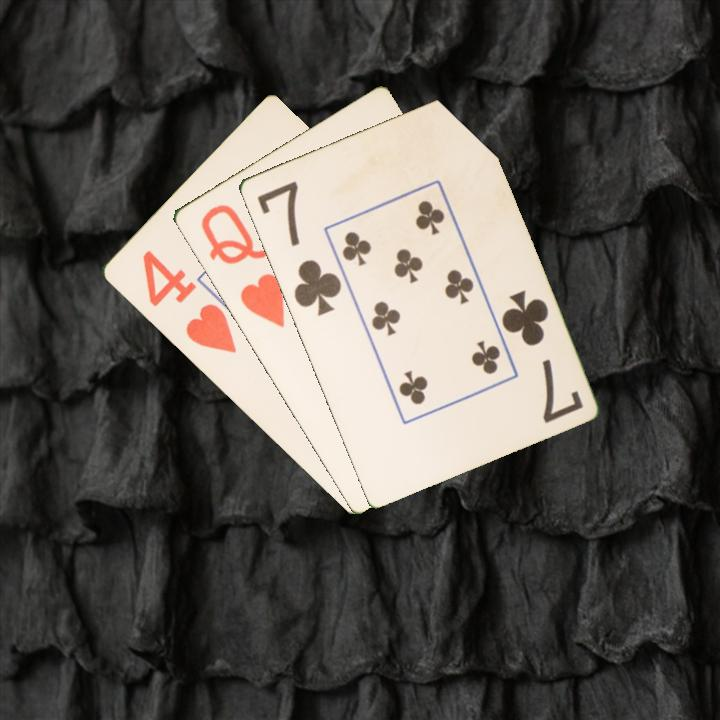4h: (138, 246, 239, 357)
7c: (253, 177, 344, 319), (497, 286, 586, 426)
Qh: (196, 200, 288, 330)
